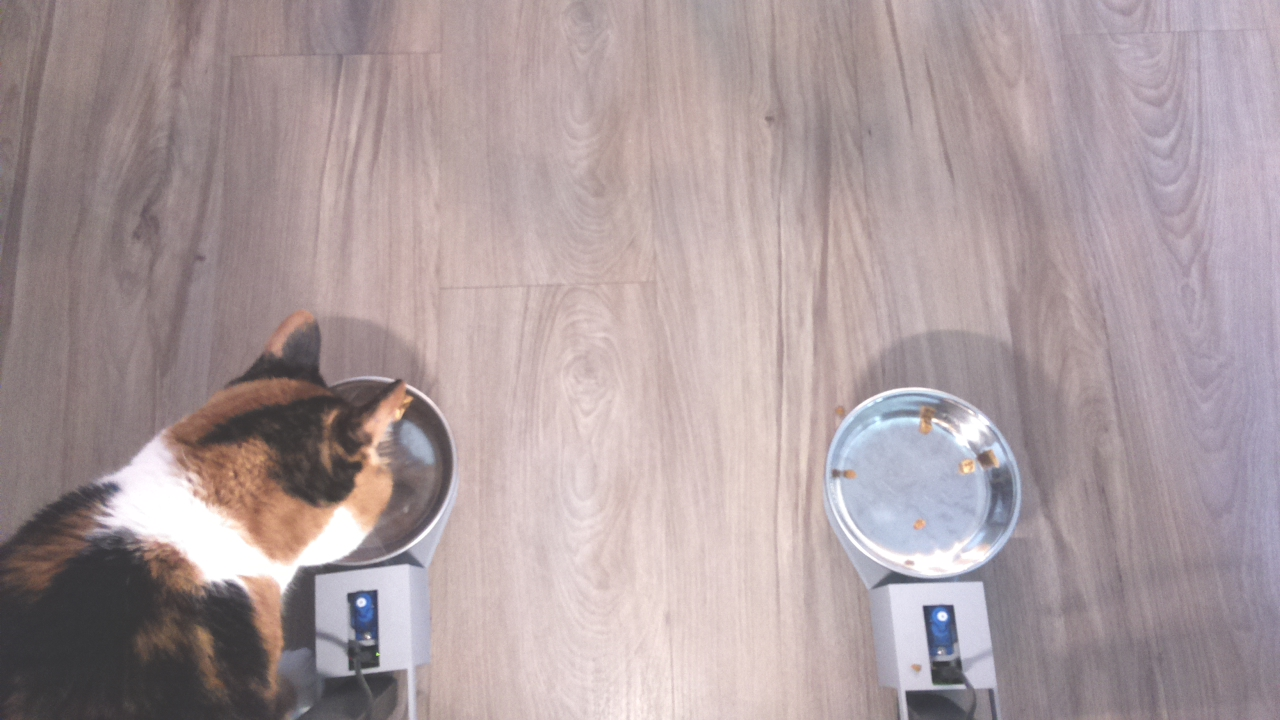bella_eating: (168, 291, 465, 592)
open_bowl: (820, 384, 1025, 580)
